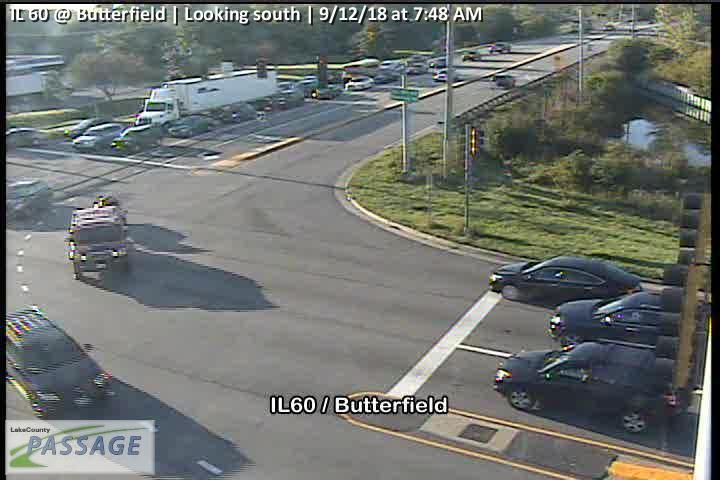SUV: (492, 341, 672, 435), (5, 307, 112, 418), (548, 293, 707, 353), (111, 124, 163, 155), (73, 123, 121, 152)
Sedan: (487, 254, 643, 310), (6, 179, 53, 220), (5, 128, 48, 148), (346, 77, 373, 90), (313, 88, 342, 98)
Truck: (137, 65, 276, 129), (68, 205, 127, 282)
